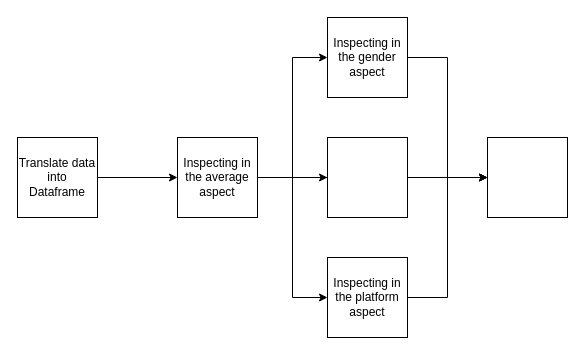
Some shapes in this 585 by 355 pixel diagram are drawn without their labels. Here are the shapes that lost their labels. From the top down, the centre of each, then its label:
At (367,177): "Inspecting in the age aspect".
At (527,177): "Visualise our finds".
